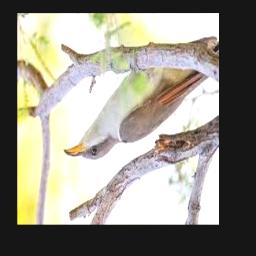Cuckoo: (64, 58, 210, 159)
